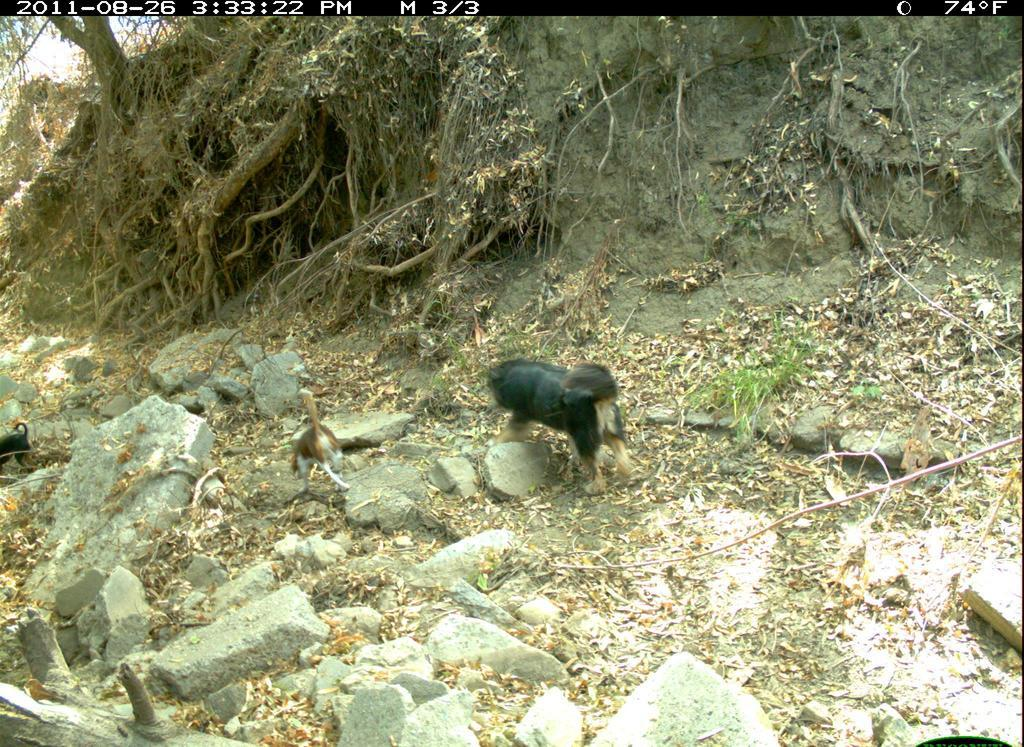dog: (484, 346, 656, 496)
